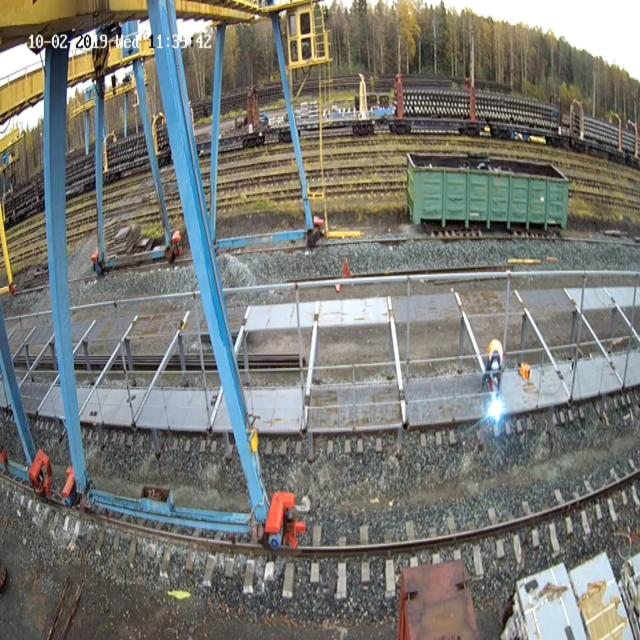Helmet: (487, 338, 503, 367), (172, 230, 181, 243)
Person: (481, 338, 504, 394), (168, 229, 183, 263)
